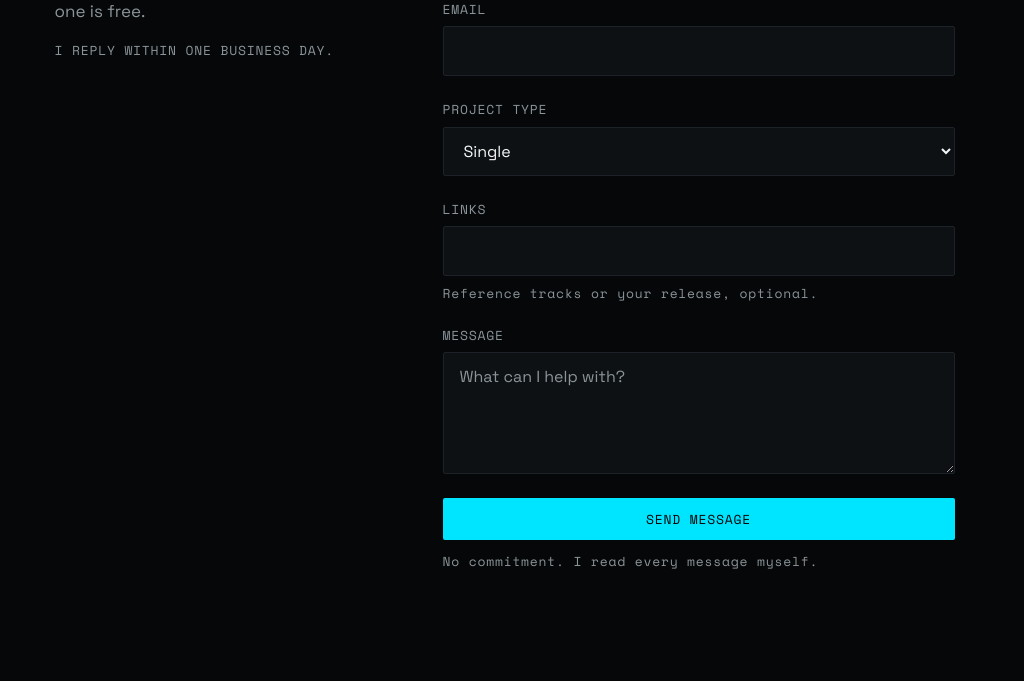
Test: Contact (commerce on, form) › shows validation errors and does not submit when required fields are empty
(page scrolled)
Step 1. Click the button "Send message" → (698, 519), box [442,498,954,540]
(page scrolled)
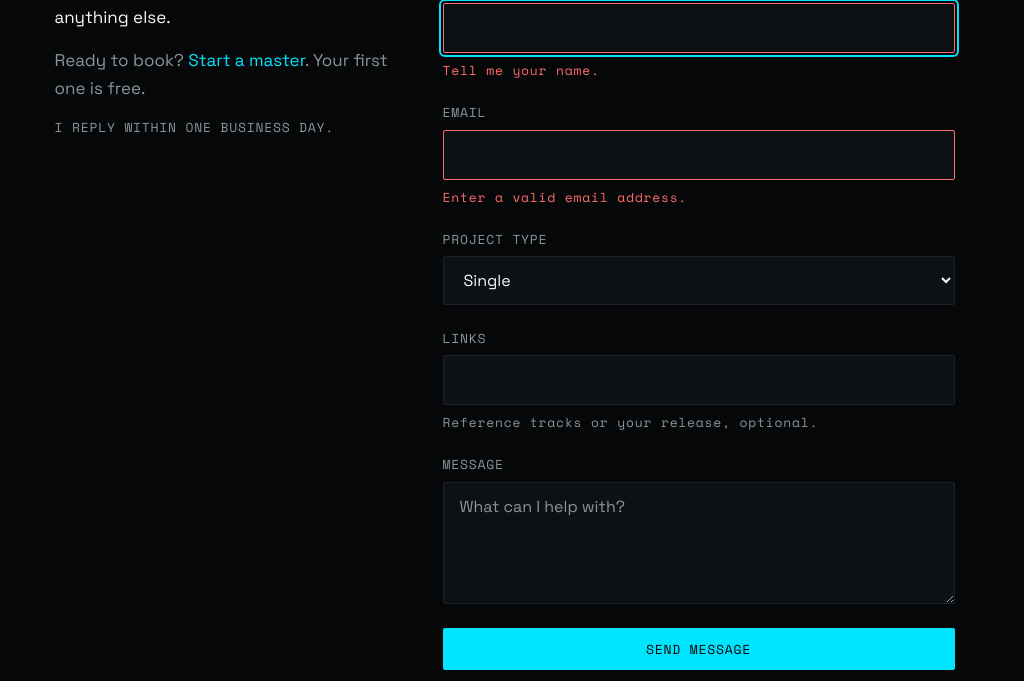
expect the text "Tell me your name." is shown: met, box [442,60,600,80]
